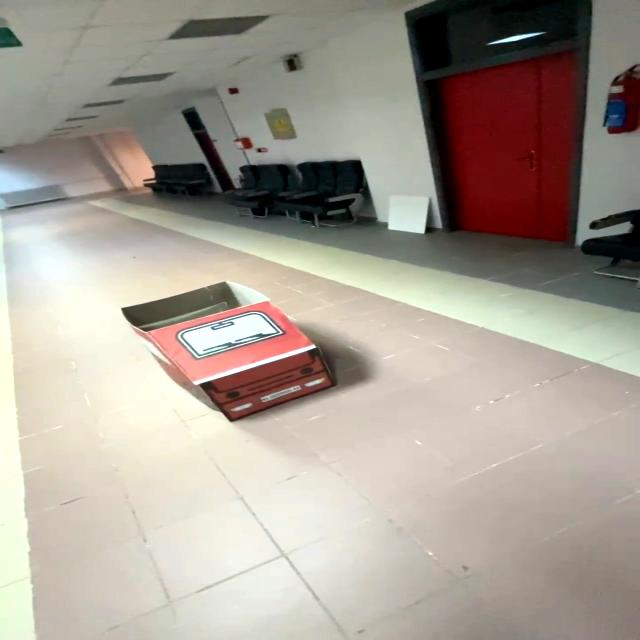red_car: (105, 271, 368, 429)
